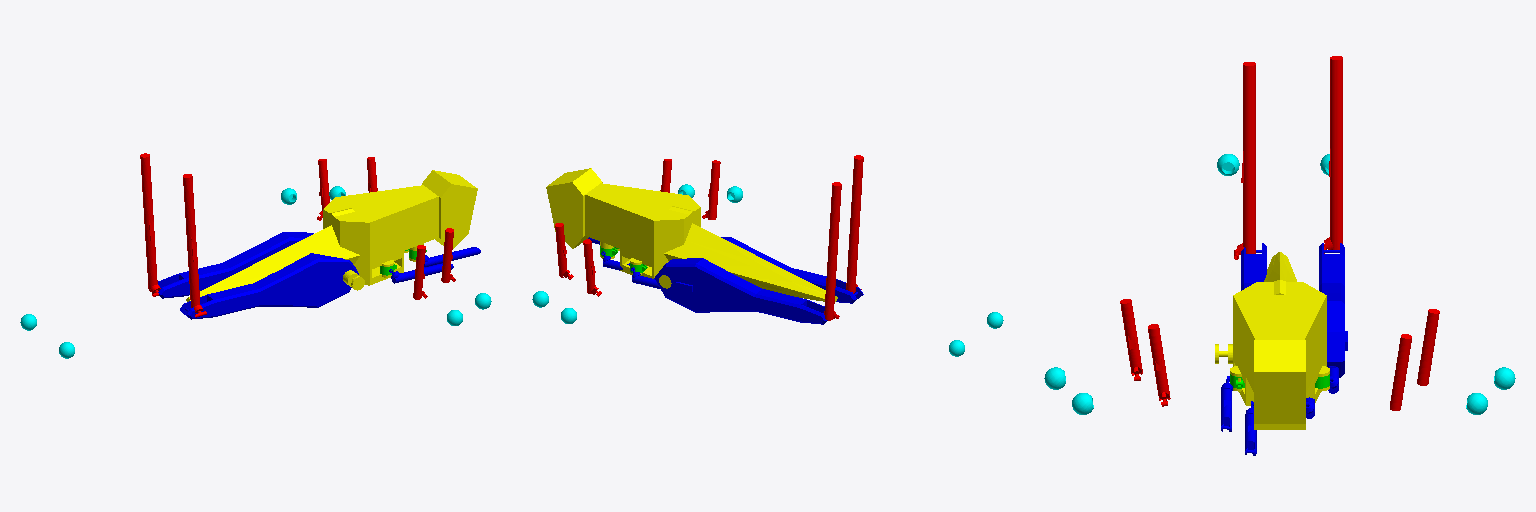
--- What the picture shows (computed from the rendered views, not written in the file) ---
Views: 3 orthographic renders of the robot side by side, from view 1: azimuth 30°, elevation 25°; view 2: azimuth 150°, elevation 25°; view 3: azimuth 270°, elevation 25°.
Model grasshopper_v13 with 23 links and 22 joints (16 revolute, 6 fixed), rooted at body, posed every joint at zero.
Links seen in each view (by area): view 1: body, rrt, lrt, rrc, lrc; view 2: body, lrt, lrc, rrc, rrt, rmc; view 3: body, lrt, rrc, lrc, rmc, rfc, lmc, lfc, rrt, rmt.
Boxes of the visible links, <box> form: body: <box>186,170,477,301</box>; rrt: <box>180,253,358,319</box>; lrt: <box>158,232,313,298</box>; rrc: <box>183,174,206,317</box>; lrc: <box>140,153,160,296</box>; body: <box>546,168,837,301</box>; lrt: <box>654,258,827,324</box>; lrc: <box>824,182,841,320</box>; rrc: <box>846,155,863,293</box>; rrt: <box>721,237,863,303</box>; rmc: <box>702,160,720,219</box>; body: <box>1215,252,1329,429</box>; lrt: <box>1319,243,1347,377</box>; rrc: <box>1234,62,1255,259</box>; lrc: <box>1324,56,1342,253</box>; rmc: <box>1120,299,1142,380</box>; rfc: <box>1148,324,1170,406</box>; lmc: <box>1417,309,1439,385</box>; lfc: <box>1390,334,1411,410</box>; rrt: <box>1241,243,1266,290</box>; rmt: <box>1221,376,1232,431</box>.
Bounding box of the posed robot: 0.2065 × 0.1458 × 0.075 m (x, y, z).
23 mesh visuals loaded from 23 distinct referenced files (23 binary STL).

The robot description file, URDF, robot "grasshopper_v13":
<?xml version="1.0" encoding="utf-8"?>
<!-- This URDF was automatically created by SolidWorks to URDF Exporter! Originally created by Stephen Brawner ([email redacted]) 
     Commit Version: 1.5.1-0-g916b5db  Build Version: 1.5.7152.31018
     For more information, please see http://wiki.ros.org/sw_urdf_exporter -->

<robot
  name="grasshopper_v13">

  <link
    name="body">
    <inertial>
      <origin
        xyz="0.0162798117739403 3.78348961987269E-10 0.0150499622323733"
        rpy="0 0 0" />
      <mass
        value="0.0567999899161868" />
      <inertia
        ixx="5.6329195694914E-07"
        ixy="-7.75239353540952E-14"
        ixz="-5.49628943640699E-07"
        iyy="4.41406008500027E-06"
        iyz="-1.06597447552425E-13"
        izz="4.26268622743885E-06" />
    </inertial>
    <visual>
      <origin
        xyz="0 0 0"
        rpy="0 0 0" />
      <geometry>
        <mesh
          filename="package://grasshopper_v13/meshes/body.STL" />
      </geometry>
      <material
        name="yellow">
        <color
          rgba="1 1 0 1" />
      </material>
    </visual>
    <collision>
      <origin
        xyz="0 0 0"
        rpy="0 0 0" />
      <geometry>
        <mesh
          filename="package://grasshopper_v13/meshes/body.STL" />
      </geometry>
    </collision>
  </link>

  <link
    name="lrt">
    <inertial>
      <origin
        xyz="0.0261286982370065 8.67361737988404E-18 0.00402879306534778"
        rpy="0 0 0" />
      <mass
        value="0.00102510748433604" />
      <inertia
        ixx="2.75870829148051E-08"
        ixy="-1.01129001055553E-22"
        ixz="6.37268406114648E-10"
        iyy="3.79932578337789E-07"
        iyz="1.87046785548643E-24"
        izz="3.96599014649716E-07" />
    </inertial>
    <visual>
      <origin
        xyz="0 0 0"
        rpy="0 0 0" />
      <geometry>
        <mesh
          filename="package://grasshopper_v13/meshes/lrt.STL" />
      </geometry>
      <material
        name="blue">
        <color
          rgba="0 0 1 1" />
      </material>
    </visual>
    <collision>
      <origin
        xyz="0 0 0"
        rpy="0 0 0" />
      <geometry>
        <mesh
          filename="package://grasshopper_v13/meshes/lrt.STL" />
      </geometry>
    </collision>
  </link>

  <joint
    name="lrt"
    type="revolute">
    <origin
      xyz="0.00150000000000005 0.0119999999999999 0.00500000000000001"
      rpy="1.5707963267949 0 3.14159265358979" />
    <parent
      link="body" />
    <child
      link="lrt" />
    <axis
      xyz="0 0 1" />
    <limit
      lower="0"
      upper="1.5708"
      effort="10000"
      velocity="10000" />
  </joint>

  <link
    name="lrc">
    <inertial>
      <origin
        xyz="0.00392175874866642 0.00250001345400112 0.0309242354329563"
        rpy="0 0 0" />
      <mass
        value="0.000112847642201865" />
      <inertia
        ixx="3.91905503653371E-08"
        ixy="2.18786057411163E-15"
        ixz="-2.72935401195661E-10"
        iyy="3.92148332472704E-08"
        iyz="1.73601369061024E-14"
        izz="2.50917852887818E-10" />
    </inertial>
    <visual>
      <origin
        xyz="0 0 0"
        rpy="0 0 0" />
      <geometry>
        <mesh
          filename="package://grasshopper_v13/meshes/lrc.STL" />
      </geometry>
      <material
        name="red">
        <color
          rgba="1 0 0 1" />
      </material>
    </visual>
    <collision>
      <origin
        xyz="0 0 0"
        rpy="0 0 0" />
      <geometry>
        <mesh
          filename="package://grasshopper_v13/meshes/lrc.STL" />
      </geometry>
    </collision>
  </link>

  <joint
    name="lrc"
    type="revolute">
    <origin
      xyz="0.075 0 0.00149999999999998"
      rpy="1.5707963267949 0 1.50753487154835" />
    <parent
      link="lrt" />
    <child
      link="lrc" />
    <axis
      xyz="0 1 0" />
    <limit
      lower="-2.906"
      upper="0"
      effort="10000"
      velocity="10000" />
  </joint>

  <link
    name="lrf">
    <inertial>
      <origin
        xyz="-3.46944695195361E-18 0 -0.000461910618212852"
        rpy="0 0 0" />
      <mass
        value="0.000139426648488346" />
      <inertia
        ixx="6.73294093383946E-10"
        ixy="1.60086014396752E-26"
        ixz="2.03563978870472E-25"
        iyy="6.73294093383946E-10"
        iyz="6.06662160817497E-28"
        izz="8.02301277928669E-10" />
    </inertial>
    <visual>
      <origin
        xyz="0 0 0"
        rpy="0 0 0" />
      <geometry>
        <mesh
          filename="package://grasshopper_v13/meshes/lrf.STL" />
      </geometry>
      <material
        name="cyan">
        <color
          rgba="0 1 1 1" />
      </material>
    </visual>
    <collision>
      <origin
        xyz="0 0 0"
        rpy="0 0 0" />
      <geometry>
        <mesh
          filename="package://grasshopper_v13/meshes/lrf.STL" />
      </geometry>
    </collision>
    <contact>
      <friction_anchor/>
      <stiffness value="3000.0"/>
      <damping value="100.0"/>
      <spinning_friction value=".3"/>
      <lateral_friction value="1"/>
    </contact>
  </link>

  <joint
    name="lrf"
    type="fixed">
    <origin
      xyz="0.0040141850277134 0.00250000000000002 0.0633692134386507"
      rpy="-3.14159265358979 0 3.14159265358979" />
    <parent
      link="lrc" />
    <child
      link="lrf" />
    <axis
      xyz="0 0 0" />
  </joint>

  <link
    name="lmj">
    <inertial>
      <origin
        xyz="0 -7.74711234625101E-06 0.0020000799283311"
        rpy="0 0 0" />
      <mass
        value="1.34653649071667E-05" />
      <inertia
        ixx="5.52644557593085E-11"
        ixy="-5.60002588478623E-27"
        ixz="-1.03052982943993E-27"
        iyy="5.2602514824496E-11"
        iyz="3.2237202837321E-15"
        izz="7.20520299010003E-11" />
    </inertial>
    <visual>
      <origin
        xyz="0 0 0"
        rpy="0 0 0" />
      <geometry>
        <mesh
          filename="package://grasshopper_v13/meshes/lmj.STL" />
      </geometry>
      <material
        name="green">
        <color
          rgba="0 1 0 1" />
      </material>
    </visual>
    <collision>
      <origin
        xyz="0 0 0"
        rpy="0 0 0" />
      <geometry>
        <mesh
          filename="package://grasshopper_v13/meshes/lmj.STL" />
      </geometry>
    </collision>
  </link>

  <joint
    name="lmj"
    type="revolute">
    <origin
      xyz="0.0195000000000001 0.0124999999999999 0.003"
      rpy="0 0 3.14159265358979" />
    <parent
      link="body" />
    <child
      link="lmj" />
    <axis
      xyz="0 0 1" />
    <limit
      lower="-1.3963"
      upper="0.95993"
      effort="10000"
      velocity="10000" />
  </joint>

  <link
    name="lmt">
    <inertial>
      <origin
        xyz="1.17369587174232E-08 -0.00371957814414213 0.0127870738369718"
        rpy="0 0 0" />
      <mass
        value="3.66110273362852E-05" />
      <inertia
        ixx="2.14579823191614E-09"
        ixy="-5.09767459957524E-16"
        ixz="1.98141479310946E-15"
        iyy="2.14027534320085E-09"
        iyz="4.42338956091424E-11"
        izz="6.85266000169759E-11" />
    </inertial>
    <visual>
      <origin
        xyz="0 0 0"
        rpy="0 0 0" />
      <geometry>
        <mesh
          filename="package://grasshopper_v13/meshes/lmt.STL" />
      </geometry>
      <material
        name="blue">
        <color
          rgba="0 0 1 1" />
      </material>
    </visual>
    <collision>
      <origin
        xyz="0 0 0"
        rpy="0 0 0" />
      <geometry>
        <mesh
          filename="package://grasshopper_v13/meshes/lmt.STL" />
      </geometry>
    </collision>
  </link>

  <joint
    name="lmt"
    type="revolute">
    <origin
      xyz="0 -0.0035 0.002"
      rpy="1.43394443199086 0 0" />
    <parent
      link="lmj" />
    <child
      link="lmt" />
    <axis
      xyz="1 0 0" />
    <limit
      lower="-1.5708"
      upper="0"
      effort="10000"
      velocity="10000" />
  </joint>

  <link
    name="lmc">
    <inertial>
      <origin
        xyz="0.00352224660212594 2.1680636799748E-10 0.0123365587699098"
        rpy="0 0 0" />
      <mass
        value="3.5661712321329E-05" />
      <inertia
        ixx="1.90974195045752E-09"
        ixy="6.36553242537407E-17"
        ixz="-2.0946484230682E-11"
        iyy="1.91637355644094E-09"
        iyz="8.08804799424577E-17"
        izz="6.29888137193371E-11" />
    </inertial>
    <visual>
      <origin
        xyz="0 0 0"
        rpy="0 0 0" />
      <geometry>
        <mesh
          filename="package://grasshopper_v13/meshes/lmc.STL" />
      </geometry>
      <material
        name="red">
        <color
          rgba="1 0 0 1" />
      </material>
    </visual>
    <collision>
      <origin
        xyz="0 0 0"
        rpy="0 0 0" />
      <geometry>
        <mesh
          filename="package://grasshopper_v13/meshes/lmc.STL" />
      </geometry>
    </collision>
  </link>

  <joint
    name="lmc"
    type="revolute">
    <origin
      xyz="0 -0.0038382 0.027871"
      rpy="0 -0.27932 1.5708" />
    <parent
      link="lmt" />
    <child
      link="lmc" />
    <axis
      xyz="0 1 0" />
    <limit
      lower="-2.7838"
      upper="0"
      effort="10000"
      velocity="10000" />
  </joint>

  <link
    name="lmf">
    <inertial>
      <origin
        xyz="-3.46944695195361E-18 -1.73472347597681E-18 -0.000369435002616075"
        rpy="0 0 0" />
      <mass
        value="0.000146440131734425" />
      <inertia
        ixx="7.15922484169963E-10"
        ixy="2.58493941422821E-26"
        ixz="9.04728794979874E-26"
        iyy="7.15922484169963E-10"
        iyz="3.87740912134232E-26"
        izz="8.27670524201034E-10" />
    </inertial>
    <visual>
      <origin
        xyz="0 0 0"
        rpy="0 0 0" />
      <geometry>
        <mesh
          filename="package://grasshopper_v13/meshes/lmf.STL" />
      </geometry>
      <material
        name="cyan">
        <color
          rgba="0 1 1 1" />
      </material>
    </visual>
    <collision>
      <origin
        xyz="0 0 0"
        rpy="0 0 0" />
      <geometry>
        <mesh
          filename="package://grasshopper_v13/meshes/lmf.STL" />
      </geometry>
    </collision>
    <contact>
      <friction_anchor/>
      <stiffness value="3000.0"/>
      <damping value="100.0"/>
      <spinning_friction value=".3"/>
      <lateral_friction value="1"/>
    </contact>
  </link>

  <joint
    name="lmf"
    type="fixed">
    <origin
      xyz="0.0035847 0 0.024991"
      rpy="-3.1416 0 0.48945" />
    <parent
      link="lmc" />
    <child
      link="lmf" />
    <axis
      xyz="0 0 0" />
  </joint>

  <link
    name="lfj">
    <inertial>
      <origin
        xyz="-1.38777878078145E-17 -7.74711234624928E-06 0.0020000799283311"
        rpy="0 0 0" />
      <mass
        value="1.34653649071667E-05" />
      <inertia
        ixx="5.52644557593085E-11"
        ixy="-3.96899484918308E-27"
        ixz="-7.23102859997426E-27"
        iyy="5.2602514824496E-11"
        iyz="3.22372028374153E-15"
        izz="7.20520299010003E-11" />
    </inertial>
    <visual>
      <origin
        xyz="0 0 0"
        rpy="0 0 0" />
      <geometry>
        <mesh
          filename="package://grasshopper_v13/meshes/lfj.STL" />
      </geometry>
      <material
        name="green">
        <color
          rgba="0 1 0 1" />
      </material>
    </visual>
    <collision>
      <origin
        xyz="0 0 0"
        rpy="0 0 0" />
      <geometry>
        <mesh
          filename="package://grasshopper_v13/meshes/lfj.STL" />
      </geometry>
    </collision>
  </link>

  <joint
    name="lfj"
    type="revolute">
    <origin
      xyz="0.038 0.005 0.003"
      rpy="0 0 -3.1416" />
    <parent
      link="body" />
    <child
      link="lfj" />
    <axis
      xyz="0 0 1" />
    <limit
      lower="-1.2217"
      upper="0.7854"
      effort="10000"
      velocity="10000" />
  </joint>

  <link
    name="lft">
    <inertial>
      <origin
        xyz="1.1504874067314E-08 -0.00371748629019261 0.0122946918253932"
        rpy="0 0 0" />
      <mass
        value="3.51603367839938E-05" />
      <inertia
        ixx="1.91485515476314E-09"
        ixy="-4.72559457814748E-16"
        ixz="1.82459195624099E-15"
        iyy="1.90949539974163E-09"
        iyz="4.22635660721531E-11"
        izz="6.60557062659622E-11" />
    </inertial>
    <visual>
      <origin
        xyz="0 0 0"
        rpy="0 0 0" />
      <geometry>
        <mesh
          filename="package://grasshopper_v13/meshes/lft.STL" />
      </geometry>
      <material
        name="blue">
        <color
          rgba="0 0 1 1" />
      </material>
    </visual>
    <collision>
      <origin
        xyz="0 0 0"
        rpy="0 0 0" />
      <geometry>
        <mesh
          filename="package://grasshopper_v13/meshes/lft.STL" />
      </geometry>
    </collision>
  </link>

  <joint
    name="lft"
    type="revolute">
    <origin
      xyz="0 -0.00350000000000001 0.002"
      rpy="1.42891836152306 0 0" />
    <parent
      link="lfj" />
    <child
      link="lft" />
    <axis
      xyz="1 0 0" />
    <limit
      lower="-1.5708"
      upper="0"
      effort="10000"
      velocity="10000" />
  </joint>

  <link
    name="lfc">
    <inertial>
      <origin
        xyz="0.0035298494694686 9.24416931891159E-11 0.0123459994095769"
        rpy="0 0 0" />
      <mass
        value="3.55157212341989E-05" />
      <inertia
        ixx="1.9088942283652E-09"
        ixy="5.07295647738847E-17"
        ixz="-2.03228592058296E-11"
        iyy="1.91507887950688E-09"
        iyz="5.59201958691822E-17"
        izz="6.24266557962309E-11" />
    </inertial>
    <visual>
      <origin
        xyz="0 0 0"
        rpy="0 0 0" />
      <geometry>
        <mesh
          filename="package://grasshopper_v13/meshes/lfc.STL" />
      </geometry>
      <material
        name="red">
        <color
          rgba="1 0 0 1" />
      </material>
    </visual>
    <collision>
      <origin
        xyz="0 0 0"
        rpy="0 0 0" />
      <geometry>
        <mesh
          filename="package://grasshopper_v13/meshes/lfc.STL" />
      </geometry>
    </collision>
  </link>

  <joint
    name="lfc"
    type="revolute">
    <origin
      xyz="0 -0.0038381732483522 0.0268708766362887"
      rpy="0 -0.284344118061165 1.5707963267949" />
    <parent
      link="lft" />
    <child
      link="lfc" />
    <axis
      xyz="0 1 0" />
    <limit
      lower="-2.7838"
      upper="0"
      effort="10000"
      velocity="10000" />
  </joint>

  <link
    name="lff">
    <inertial>
      <origin
        xyz="6.93889390390723E-18 1.73472347597681E-18 -0.000369435002616103"
        rpy="0 0 0" />
      <mass
        value="0.000146440131734425" />
      <inertia
        ixx="7.15922484169963E-10"
        ixy="2.58493941422821E-26"
        ixz="7.27014210251684E-26"
        iyy="7.15922484169963E-10"
        iyz="1.29246970711411E-26"
        izz="8.27670524201034E-10" />
    </inertial>
    <visual>
      <origin
        xyz="0 0 0"
        rpy="0 0 0" />
      <geometry>
        <mesh
          filename="package://grasshopper_v13/meshes/lff.STL" />
      </geometry>
      <material
        name="cyan">
        <color
          rgba="0 1 1 1" />
      </material>
    </visual>
    <collision>
      <origin
        xyz="0 0 0"
        rpy="0 0 0" />
      <geometry>
        <mesh
          filename="package://grasshopper_v13/meshes/lff.STL" />
      </geometry>
    </collision>
    <contact>
      <friction_anchor/>
      <stiffness value="3000.0"/>
      <damping value="100.0"/>
      <spinning_friction value=".3"/>
      <lateral_friction value="1"/>
    </contact>
  </link>

  <joint
    name="lff"
    type="fixed">
    <origin
      xyz="0.00358467875173176 0 0.024991154273188"
      rpy="3.14159265358979 0 1.31216908789752" />
    <parent
      link="lfc" />
    <child
      link="lff" />
    <axis
      xyz="0.315437894143221 0.2024778035139 -0.927093131256335" />
  </joint>

  <link
    name="rrt">
    <inertial>
      <origin
        xyz="0.0261286982370065 -3.46944695195361E-18 0.00402879306534778"
        rpy="0 0 0" />
      <mass
        value="0.00102510748433604" />
      <inertia
        ixx="2.75870829148051E-08"
        ixy="5.25397806138035E-23"
        ixz="6.37268406114554E-10"
        iyy="3.79932578337789E-07"
        iyz="4.50188280965408E-25"
        izz="3.96599014649717E-07" />
    </inertial>
    <visual>
      <origin
        xyz="0 0 0"
        rpy="0 0 0" />
      <geometry>
        <mesh
          filename="package://grasshopper_v13/meshes/rrt.STL" />
      </geometry>
      <material
        name="blue">
        <color
          rgba="0 0 1 1" />
      </material>
    </visual>
    <collision>
      <origin
        xyz="0 0 0"
        rpy="0 0 0" />
      <geometry>
        <mesh
          filename="package://grasshopper_v13/meshes/rrt.STL" />
      </geometry>
    </collision>
  </link>

  <joint
    name="rrt"
    type="revolute">
    <origin
      xyz="0.0015 -0.012 0.005"
      rpy="-1.5708 0 3.1416" />
    <parent
      link="body" />
    <child
      link="rrt" />
    <axis
      xyz="0 0 1" />
    <limit
      lower="-1.5708"
      upper="0"
      effort="10000"
      velocity="10000" />
  </joint>

  <link
    name="rrc">
    <inertial>
      <origin
        xyz="0.00392175874866659 -0.00249998654599893 0.0309242354329562"
        rpy="0 0 0" />
      <mass
        value="0.000112847642201864" />
      <inertia
        ixx="3.9190550365337E-08"
        ixy="2.18786057414228E-15"
        ixz="-2.72935401195876E-10"
        iyy="3.92148332472703E-08"
        iyz="1.73601369098715E-14"
        izz="2.5091785288782E-10" />
    </inertial>
    <visual>
      <origin
        xyz="0 0 0"
        rpy="0 0 0" />
      <geometry>
        <mesh
          filename="package://grasshopper_v13/meshes/rrc.STL" />
      </geometry>
      <material
        name="red">
        <color
          rgba="1 0 0 1" />
      </material>
    </visual>
    <collision>
      <origin
        xyz="0 0 0"
        rpy="0 0 0" />
      <geometry>
        <mesh
          filename="package://grasshopper_v13/meshes/rrc.STL" />
      </geometry>
    </collision>
  </link>

  <joint
    name="rrc"
    type="revolute">
    <origin
      xyz="0.075 0 0.00149999999999999"
      rpy="-1.5707963267949 0 -1.50753487154835" />
    <parent
      link="rrt" />
    <child
      link="rrc" />
    <axis
      xyz="0 1 0" />
    <limit
      lower="-2.906"
      upper="0"
      effort="10000"
      velocity="10000" />
  </joint>

  <link
    name="rrf">
    <inertial>
      <origin
        xyz="-1.73472347597681E-18 0 -0.000461910618212824"
        rpy="0 0 0" />
      <mass
        value="0.000139426648488346" />
      <inertia
        ixx="6.73294093383948E-10"
        ixy="-1.95408424977817E-29"
        ixz="1.58327539121478E-25"
        iyy="6.73294093383948E-10"
        iyz="1.26835134038282E-26"
        izz="8.02301277928669E-10" />
    </inertial>
    <visual>
      <origin
        xyz="0 0 0"
        rpy="0 0 0" />
      <geometry>
        <mesh
          filename="package://grasshopper_v13/meshes/rrf.STL" />
      </geometry>
      <material
        name="cyan">
        <color
          rgba="0 1 1 1" />
      </material>
    </visual>
    <collision>
      <origin
        xyz="0 0 0"
        rpy="0 0 0" />
      <geometry>
        <mesh
          filename="package://grasshopper_v13/meshes/rrf.STL" />
      </geometry>
    </collision>
    <contact>
      <friction_anchor/>
      <stiffness value="3000.0"/>
      <damping value="100.0"/>
      <spinning_friction value=".3"/>
      <lateral_friction value="1"/>
    </contact>
  </link>

  <joint
    name="rrf"
    type="fixed">
    <origin
      xyz="0.00401418502771377 -0.0025 0.0633692134386507"
      rpy="-3.14159265358979 0 3.14159265358979" />
    <parent
      link="rrc" />
    <child
      link="rrf" />
    <axis
      xyz="-0.126185616463493 0 -0.992006648262867" />
  </joint>

  <link
    name="rmj">
    <inertial>
      <origin
        xyz="3.46944695195361E-18 -7.74711234624928E-06 0.0020000799283311"
        rpy="0 0 0" />
      <mass
        value="1.34653649071667E-05" />
      <inertia
        ixx="5.52644557593085E-11"
        ixy="-1.9516475894539E-27"
        ixz="-1.49670709805117E-28"
        iyy="5.2602514824496E-11"
        iyz="3.22372028373248E-15"
        izz="7.20520299010003E-11" />
    </inertial>
    <visual>
      <origin
        xyz="0 0 0"
        rpy="0 0 0" />
      <geometry>
        <mesh
          filename="package://grasshopper_v13/meshes/rmj.STL" />
      </geometry>
      <material
        name="green">
        <color
          rgba="0 1 0 1" />
      </material>
    </visual>
    <collision>
      <origin
        xyz="0 0 0"
        rpy="0 0 0" />
      <geometry>
        <mesh
          filename="package://grasshopper_v13/meshes/rmj.STL" />
      </geometry>
    </collision>
  </link>

  <joint
    name="rmj"
    type="revolute">
    <origin
      xyz="0.0195 -0.0125 0.003"
      rpy="0 0 0" />
    <parent
      link="body" />
    <child
      link="rmj" />
    <axis
      xyz="0 0 1" />
    <limit
      lower="-0.95993"
      upper="1.3963"
      effort="10000"
      velocity="10000" />
  </joint>

  <link
    name="rmt">
    <inertial>
      <origin
        xyz="1.17369587208926E-08 -0.00371957814414213 0.0127870738369718"
        rpy="0 0 0" />
      <mass
        value="3.66110273362851E-05" />
      <inertia
        ixx="2.14579823191614E-09"
        ixy="-5.097674599054E-16"
        ixz="1.98141479303397E-15"
        iyy="2.14027534320085E-09"
        iyz="4.42338956091423E-11"
        izz="6.85266000169758E-11" />
    </inertial>
    <visual>
      <origin
        xyz="0 0 0"
        rpy="0 0 0" />
      <geometry>
        <mesh
          filename="package://grasshopper_v13/meshes/rmt.STL" />
      </geometry>
      <material
        name="blue">
        <color
          rgba="0 0 1 1" />
      </material>
    </visual>
    <collision>
      <origin
        xyz="0 0 0"
        rpy="0 0 0" />
      <geometry>
        <mesh
          filename="package://grasshopper_v13/meshes/rmt.STL" />
      </geometry>
    </collision>
  </link>

  <joint
    name="rmt"
    type="revolute">
    <origin
      xyz="0 -0.00349999999999999 0.002"
      rpy="1.43394443199086 0 0" />
    <parent
      link="rmj" />
    <child
      link="rmt" />
    <axis
      xyz="1 0 0" />
    <limit
      lower="-1.5708"
      upper="0"
      effort="10000"
      velocity="10000" />
  </joint>

  <link
    name="rmc">
    <inertial>
      <origin
        xyz="0.00352224660212594 2.16806371466927E-10 0.0123365587699098"
        rpy="0 0 0" />
      <mass
        value="3.5661712321329E-05" />
      <inertia
        ixx="1.90974195045752E-09"
        ixy="6.36553243003799E-17"
        ixz="-2.09464842306822E-11"
        iyy="1.91637355644094E-09"
        iyz="8.0880479166653E-17"
        izz="6.29888137193371E-11" />
    </inertial>
    <visual>
      <origin
        xyz="0 0 0"
        rpy="0 0 0" />
      <geometry>
        <mesh
          filename="package://grasshopper_v13/meshes/rmc.STL" />
      </geometry>
      <material
        name="red">
        <color
          rgba="1 0 0 1" />
      </material>
    </visual>
    <collision>
      <origin
        xyz="0 0 0"
        rpy="0 0 0" />
      <geometry>
        <mesh
          filename="package://grasshopper_v13/meshes/rmc.STL" />
      </geometry>
    </collision>
  </link>

  <joint
    name="rmc"
    type="revolute">
    <origin
      xyz="0 -0.0038381732483522 0.0278708766362887"
      rpy="0 -0.279318047593364 1.5707963267949" />
    <parent
      link="rmt" />
    <child
      link="rmc" />
    <axis
      xyz="0 1 0" />
    <limit
      lower="-2.7838"
      upper="0"
      effort="10000"
      velocity="10000" />
  </joint>

  <link
    name="rmf">
    <inertial>
      <origin
        xyz="-3.46944695195361E-18 8.67361737988404E-19 -0.000369435002616089"
        rpy="0 0 0" />
      <mass
        value="0.000146440131734425" />
      <inertia
        ixx="7.15922484169963E-10"
        ixy="0"
        ixz="-8.72417052302021E-26"
        iyy="7.15922484169964E-10"
        iyz="1.09859925104699E-25"
        izz="8.27670524201034E-10" />
    </inertial>
    <visual>
      <origin
        xyz="0 0 0"
        rpy="0 0 0" />
      <geometry>
        <mesh
          filename="package://grasshopper_v13/meshes/rmf.STL" />
      </geometry>
      <material
        name="cyan">
        <color
          rgba="0 1 1 1" />
      </material>
    </visual>
    <collision>
      <origin
        xyz="0 0 0"
        rpy="0 0 0" />
      <geometry>
        <mesh
          filename="package://grasshopper_v13/meshes/rmf.STL" />
      </geometry>
    </collision>
    <contact>
      <friction_anchor/>
      <stiffness value="3000.0"/>
      <damping value="100.0"/>
      <spinning_friction value=".3"/>
      <lateral_friction value="1"/>
    </contact>
  </link>

  <joint
    name="rmf"
    type="fixed">
    <origin
      xyz="0.00358467875173177 0 0.024991154273188"
      rpy="-3.14159265358979 0 -1.06968702280819" />
    <parent
      link="rmc" />
    <child
      link="rmf" />
    <axis
      xyz="0.543800344791726 -0.00293181392776692 -0.839209502729499" />
  </joint>

  <link
    name="rfj">
    <inertial>
      <origin
        xyz="-4.16333634234434E-17 -7.74711234625535E-06 0.0020000799283311"
        rpy="0 0 0" />
      <mass
        value="1.34653649071667E-05" />
      <inertia
        ixx="5.52644557593085E-11"
        ixy="-1.94644749785624E-27"
        ixz="-1.48968825401143E-28"
        iyy="5.2602514824496E-11"
        iyz="3.22372028373242E-15"
        izz="7.20520299010003E-11" />
    </inertial>
    <visual>
      <origin
        xyz="0 0 0"
        rpy="0 0 0" />
      <geometry>
        <mesh
          filename="package://grasshopper_v13/meshes/rfj.STL" />
      </geometry>
      <material
        name="green">
        <color
          rgba="0 1 0 1" />
      </material>
    </visual>
    <collision>
      <origin
        xyz="0 0 0"
        rpy="0 0 0" />
      <geometry>
        <mesh
          filename="package://grasshopper_v13/meshes/rfj.STL" />
      </geometry>
    </collision>
  </link>

  <joint
    name="rfj"
    type="revolute">
    <origin
      xyz="0.0380000000000001 -0.00500000000000007 0.003"
      rpy="0 0 0" />
    <parent
      link="body" />
    <child
      link="rfj" />
    <axis
      xyz="0 0 1" />
    <limit
      lower="-0.7854"
      upper="1.2217"
      effort="10000"
      velocity="10000" />
  </joint>

  <link
    name="rft">
    <inertial>
      <origin
        xyz="1.15048741158863E-08 -0.00371748629019268 0.0122946918253931"
        rpy="0 0 0" />
      <mass
        value="3.51603367839939E-05" />
      <inertia
        ixx="1.91485515476314E-09"
        ixy="-4.72559457551865E-16"
        ixz="1.82459194594638E-15"
        iyy="1.90949539974164E-09"
        iyz="4.22635660721527E-11"
        izz="6.60557062659624E-11" />
    </inertial>
    <visual>
      <origin
        xyz="0 0 0"
        rpy="0 0 0" />
      <geometry>
        <mesh
          filename="package://grasshopper_v13/meshes/rft.STL" />
      </geometry>
      <material
        name="blue">
        <color
          rgba="0 0 1 1" />
      </material>
    </visual>
    <collision>
      <origin
        xyz="0 0 0"
        rpy="0 0 0" />
      <geometry>
        <mesh
          filename="package://grasshopper_v13/meshes/rft.STL" />
      </geometry>
    </collision>
  </link>

  <joint
    name="rft"
    type="revolute">
    <origin
      xyz="0 -0.0035 0.002"
      rpy="1.42891836152306 0 0" />
    <parent
      link="rfj" />
    <child
      link="rft" />
    <axis
      xyz="1 0 0" />
    <limit
      lower="-1.5708"
      upper="0"
      effort="10000"
      velocity="10000" />
  </joint>

  <link
    name="rfc">
    <inertial>
      <origin
        xyz="0.00352984946946859 9.24417070669037E-11 0.012345999409577"
        rpy="0 0 0" />
      <mass
        value="3.55157212341991E-05" />
      <inertia
        ixx="1.90889422836521E-09"
        ixy="5.0729564804038E-17"
        ixz="-2.03228592058292E-11"
        iyy="1.91507887950688E-09"
        iyz="5.59201988036956E-17"
        izz="6.24266557962314E-11" />
    </inertial>
    <visual>
      <origin
        xyz="0 0 0"
        rpy="0 0 0" />
      <geometry>
        <mesh
          filename="package://grasshopper_v13/meshes/rfc.STL" />
      </geometry>
      <material
        name="red">
        <color
          rgba="1 0 0 1" />
      </material>
    </visual>
    <collision>
      <origin
        xyz="0 0 0"
        rpy="0 0 0" />
      <geometry>
        <mesh
          filename="package://grasshopper_v13/meshes/rfc.STL" />
      </geometry>
    </collision>
  </link>

  <joint
    name="rfc"
    type="revolute">
    <origin
      xyz="0 -0.00383817324835235 0.0268708766362886"
      rpy="0 -0.284344118061165 1.5707963267949" />
    <parent
      link="rft" />
    <child
      link="rfc" />
    <axis
      xyz="0 1 0" />
    <limit
      lower="-2.7838"
      upper="0"
      effort="10000"
      velocity="10000" />
  </joint>

  <link
    name="rff">
    <inertial>
      <origin
        xyz="0 0 -0.00036943500261611"
        rpy="0 0 0" />
      <mass
        value="0.000146440131734425" />
      <inertia
        ixx="7.15922484169963E-10"
        ixy="5.16987882845642E-26"
        ixz="-1.1632227364027E-25"
        iyy="7.15922484169963E-10"
        iyz="-6.78546596234906E-26"
        izz="8.27670524201034E-10" />
    </inertial>
    <visual>
      <origin
        xyz="0 0 0"
        rpy="0 0 0" />
      <geometry>
        <mesh
          filename="package://grasshopper_v13/meshes/rff.STL" />
      </geometry>
      <material
        name="cyan">
        <color
          rgba="0 1 1 1" />
      </material>
    </visual>
    <collision>
      <origin
        xyz="0 0 0"
        rpy="0 0 0" />
      <geometry>
        <mesh
          filename="package://grasshopper_v13/meshes/rff.STL" />
      </geometry>
    </collision>
    <contact>
      <friction_anchor/>
      <stiffness value="3000.0"/>
      <damping value="100.0"/>
      <spinning_friction value=".3"/>
      <lateral_friction value="1"/>
    </contact>
  </link>

  <joint
    name="rff"
    type="fixed">
    <origin
      xyz="0.00358467875173169 0 0.024991154273188"
      rpy="-3.14159265358979 0 -0.499594953248322" />
    <parent
      link="rfc" />
    <child
      link="rff" />
    <axis
      xyz="0.598726421418585 0.663097935403218 -0.449252490654514" />
  </joint>

</robot>
